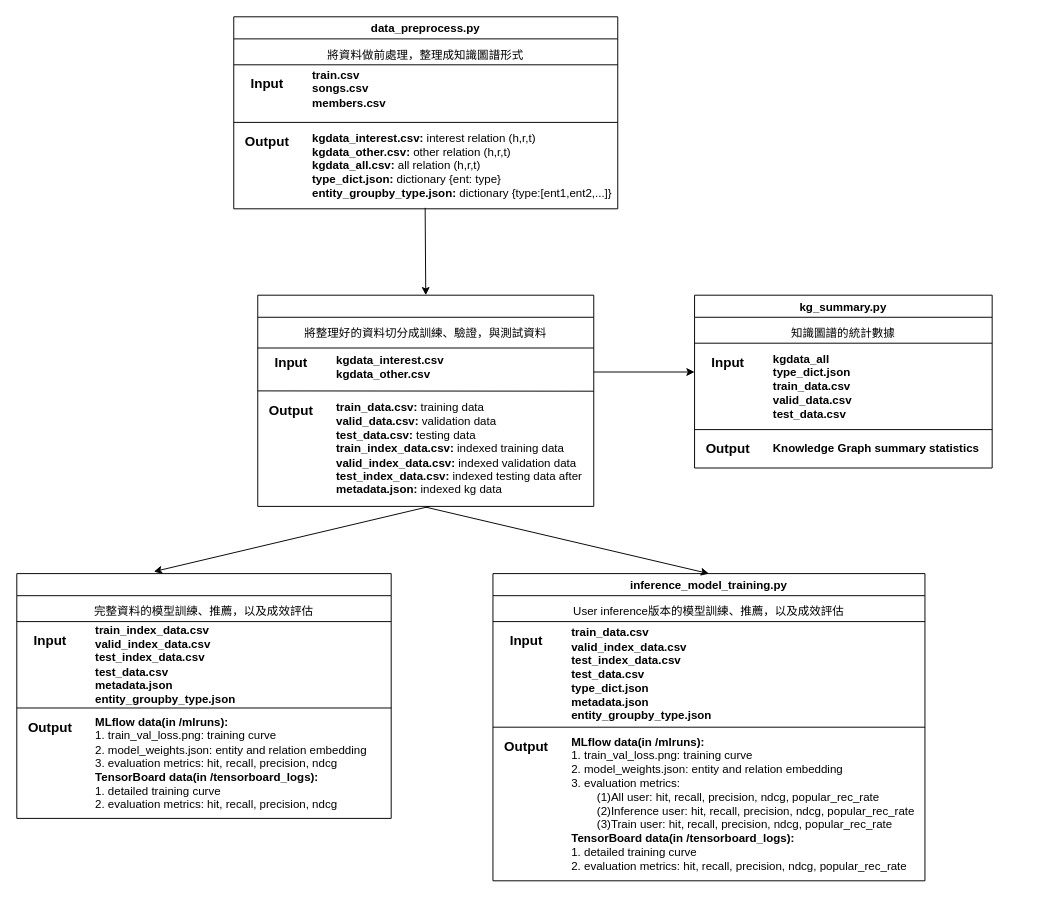
Some shapes in this 1047 by 898 pixel diagram are drawn without their labels. Each missing label, with the box of its shape:
model_training.py: (16, 573, 391, 818)
train_val_test_split.py: (257, 294, 594, 506)
